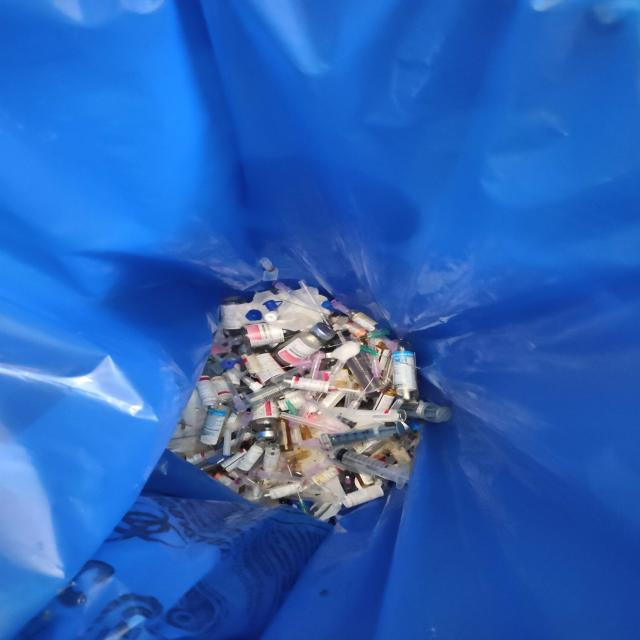B3: (338, 447, 413, 486), (275, 319, 334, 366), (346, 329, 386, 394), (295, 398, 361, 427), (212, 355, 266, 390), (327, 424, 406, 445), (267, 369, 303, 414), (283, 374, 360, 395), (360, 344, 424, 369), (326, 327, 396, 349), (284, 464, 314, 514), (261, 255, 295, 299), (393, 349, 420, 399), (255, 347, 288, 382), (340, 482, 386, 507), (200, 406, 228, 446), (244, 381, 288, 406), (407, 401, 454, 424), (276, 281, 320, 305), (244, 323, 286, 348), (220, 296, 245, 336), (254, 405, 278, 440), (236, 439, 264, 469), (346, 309, 379, 330), (362, 410, 412, 422), (374, 382, 395, 410), (214, 372, 231, 404), (222, 449, 245, 471), (199, 375, 215, 405), (264, 443, 279, 472)
